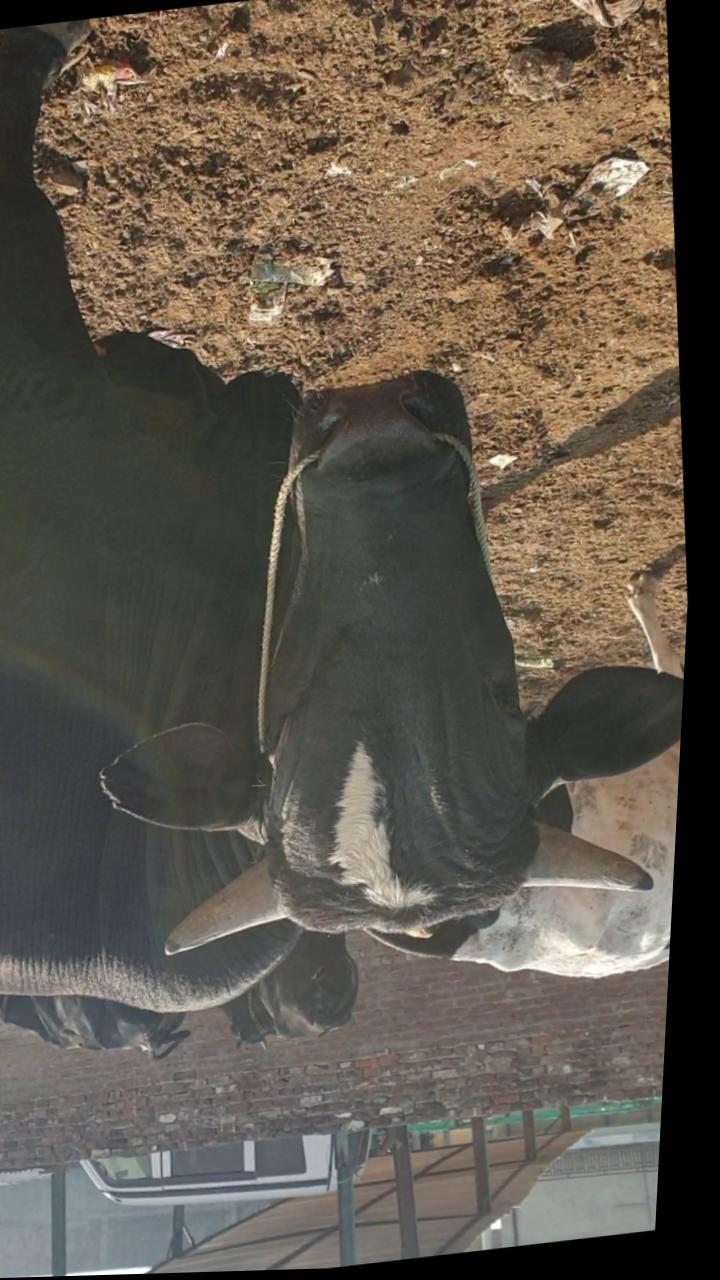cows: (187, 337, 615, 964)
